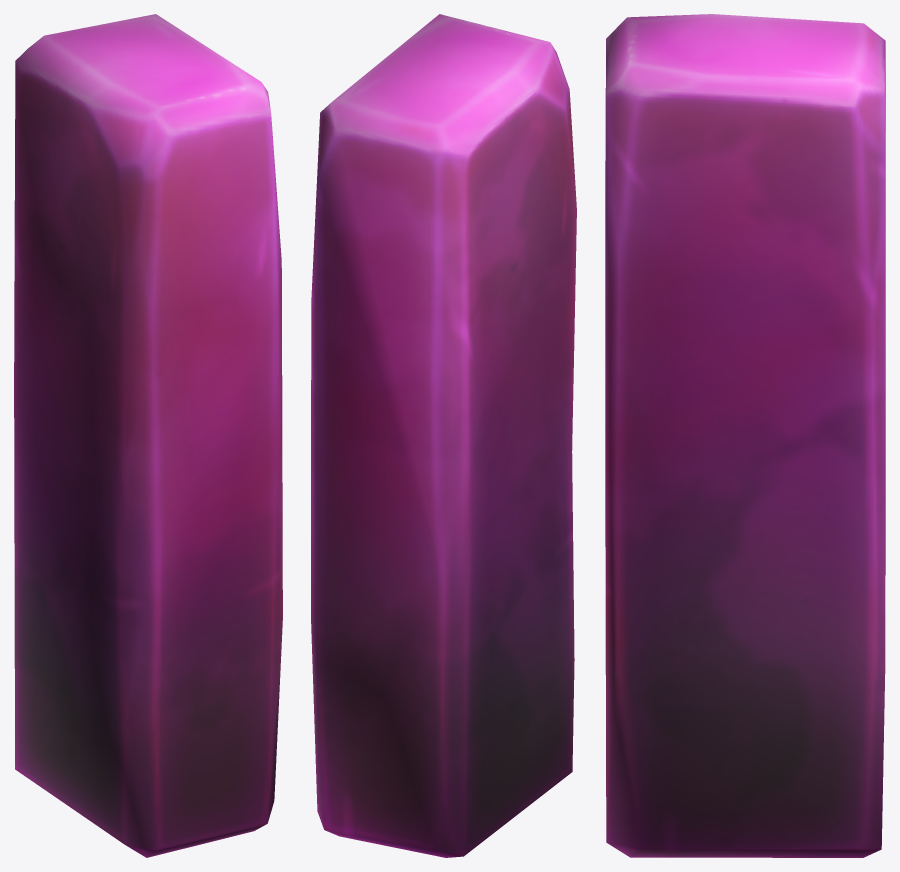
File: SM_Gem_Kunzite_006.fbx
The picture shows the model from 3 angles, left to right: view 1: azimuth 30°, elevation 25°; view 2: azimuth 150°, elevation 25°; view 3: azimuth 270°, elevation 25°; orthographic projection. The views are drawn at different scales.
Parts seen in each view (by area): view 1: SM_Gem_Kunzite_006; view 2: SM_Gem_Kunzite_006; view 3: SM_Gem_Kunzite_006.
Part boxes in pixels (x1,y1,x2,y2): SM_Gem_Kunzite_006: (14, 14, 282, 857); SM_Gem_Kunzite_006: (311, 14, 576, 857); SM_Gem_Kunzite_006: (605, 14, 885, 857).
Bounding box in the file's own units: 11.77 × 54.02 × 17.35.
